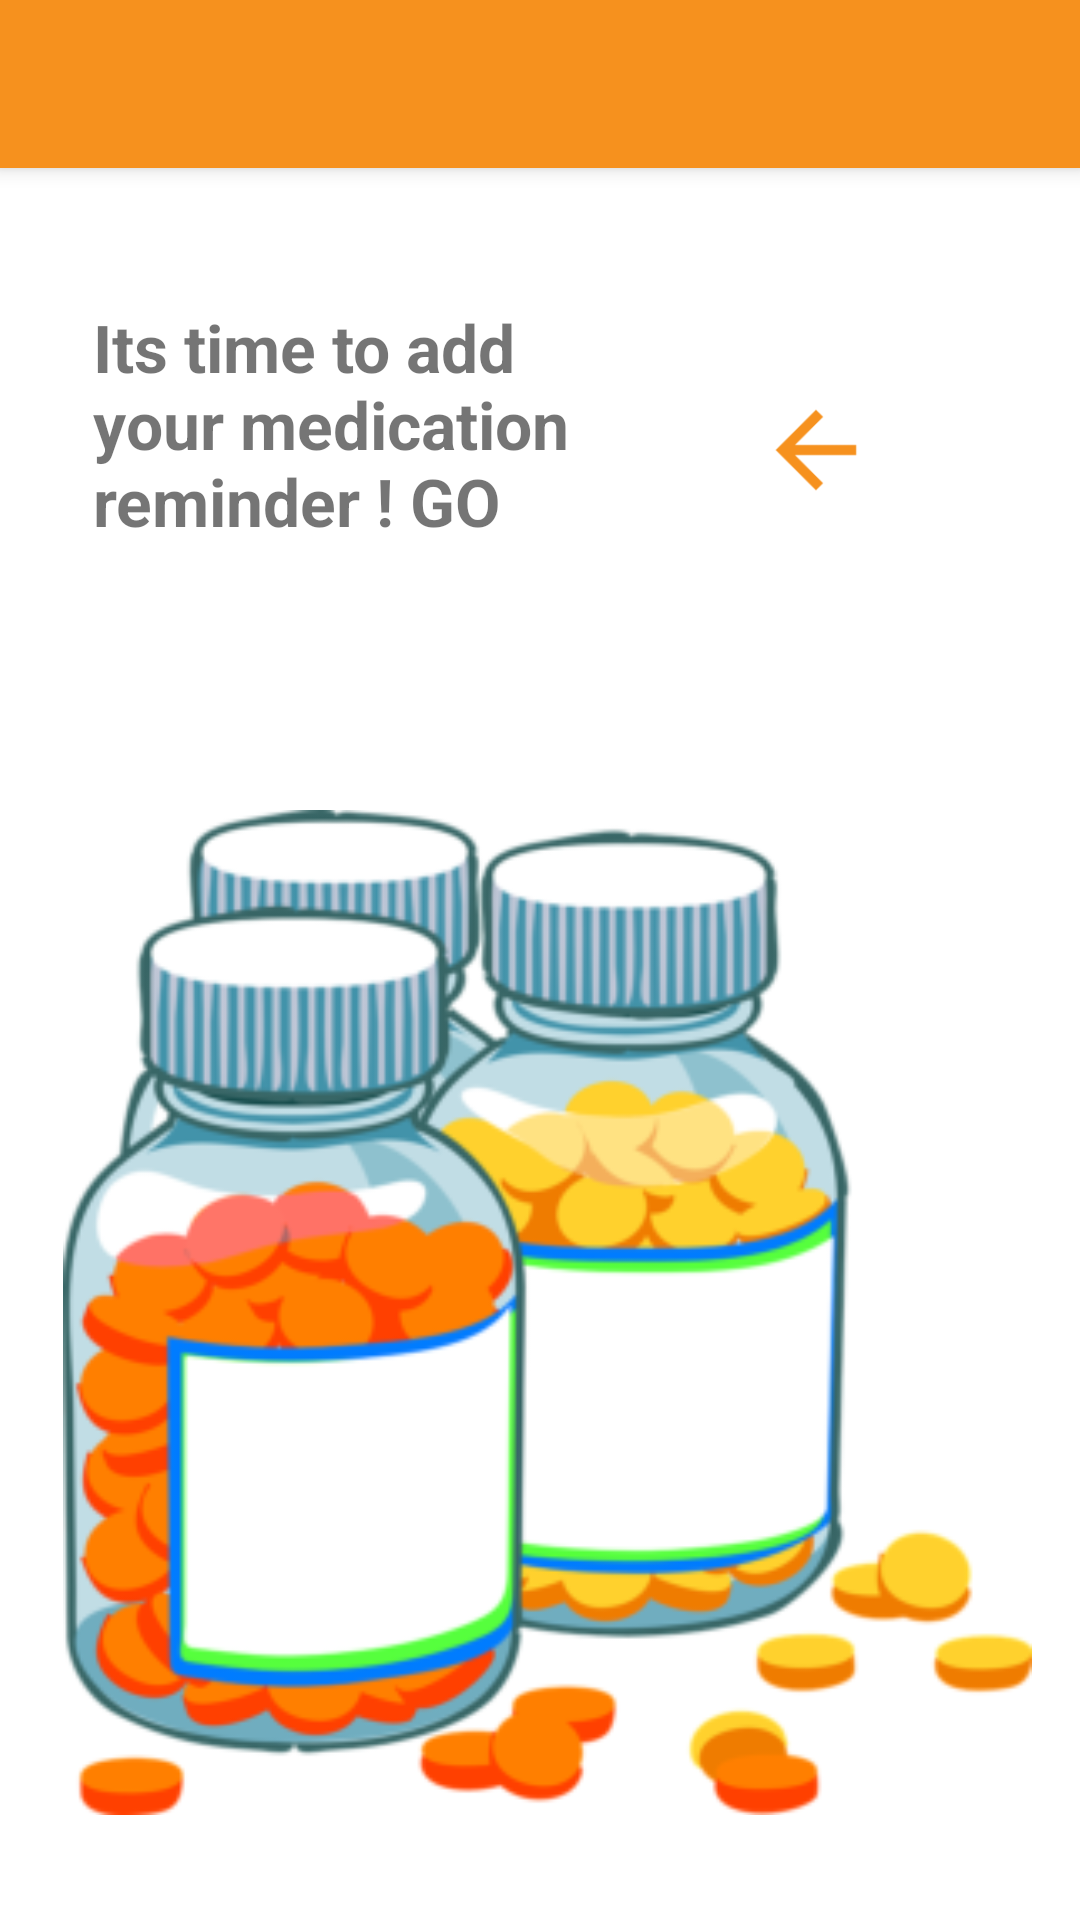

Icons on this 1080px×1920px Android screen, each with its box as rect(x1, y1, x2, y2):
fleche: rect(775, 409, 857, 491)
